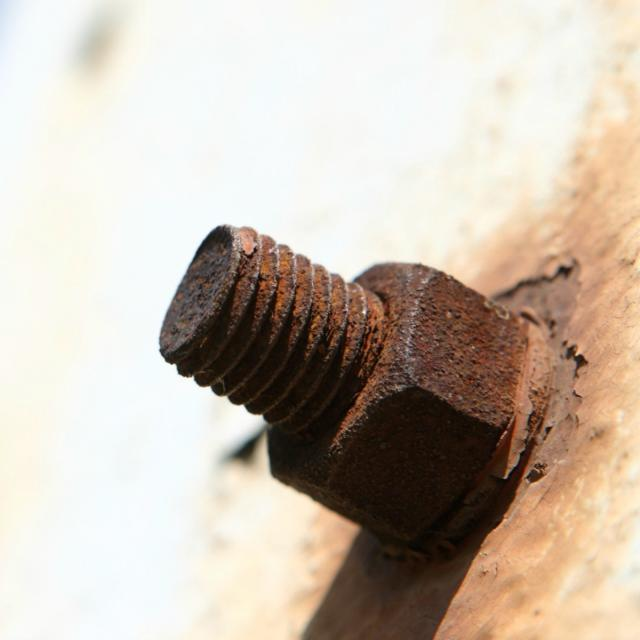Rusty bolt: (164, 227, 528, 542)
